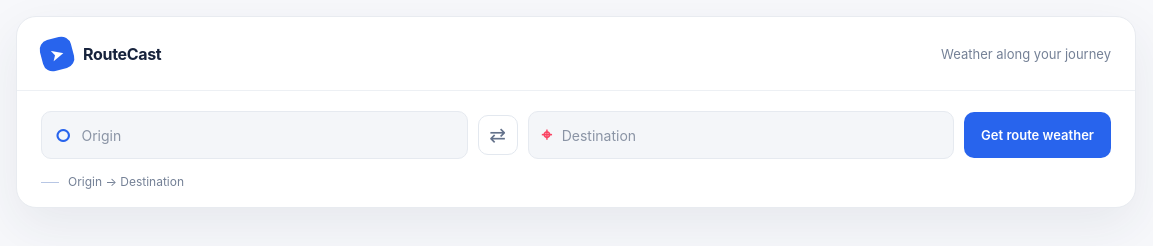
Test: debounces Photon search and selects a formatted location suggestion
Type "New" into the dropdown named "Origin". click: (268, 135)
box: left=82, top=126, right=454, bottom=144
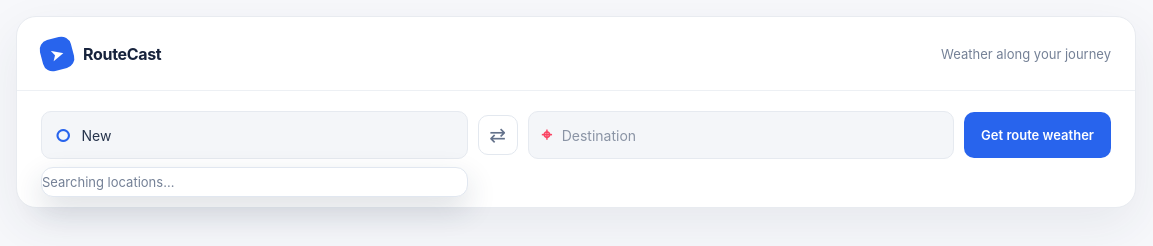
Replace the text in the dropdown named "Origin" with "New York". click: (268, 135)
box: left=82, top=126, right=454, bottom=144
Wait 300 ms
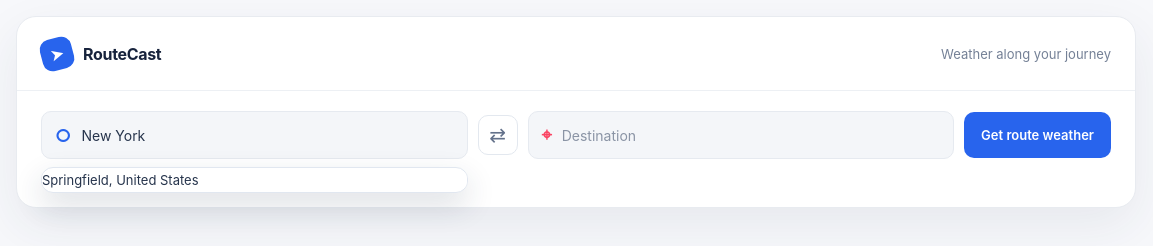
Click the option "Springfield, United States". click: (120, 180)
box: left=42, top=172, right=466, bottom=188
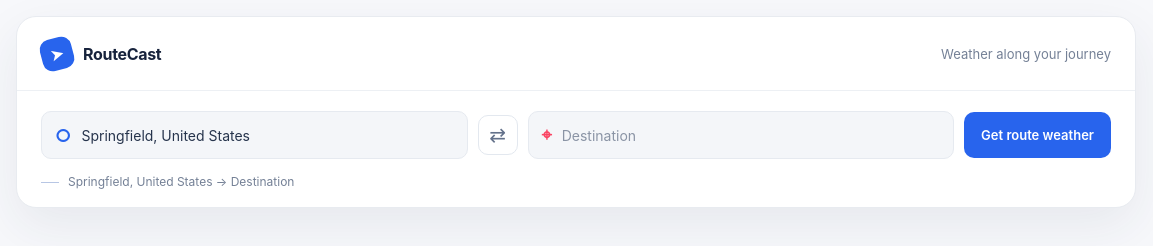
Check: the dropdown named "Origin" holds "Springfield, United States", box left=82, top=126, right=454, bottom=144
Check: the dropdown named "Origin" is collapsed, box left=82, top=126, right=454, bottom=144
